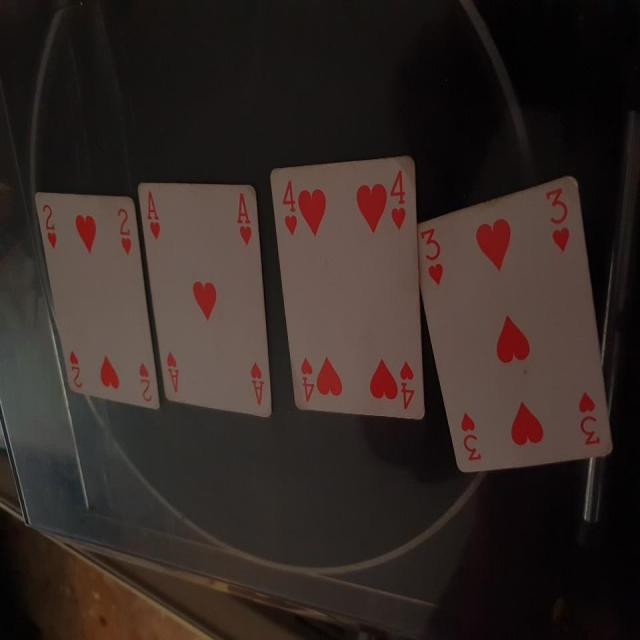2 Hearts: (29, 188, 162, 414)
3 Hearts: (415, 176, 616, 485)
4 Hearts: (268, 144, 433, 429)
A Hearts: (137, 177, 276, 428)
